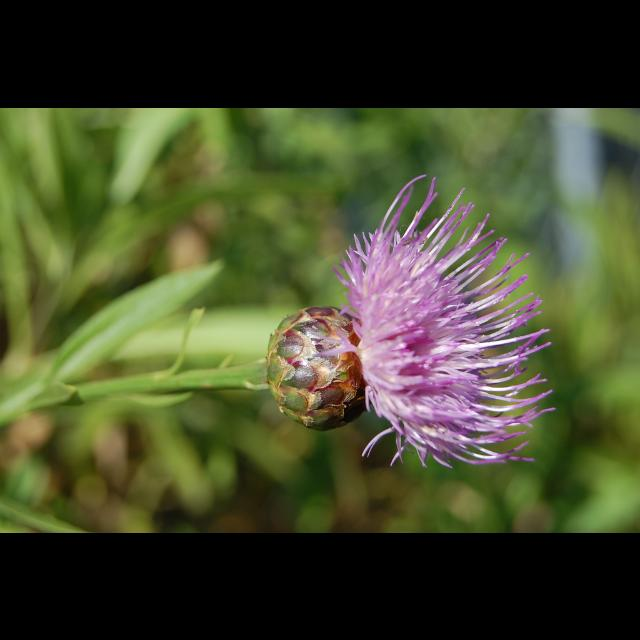Flower: (307, 174, 559, 476)
